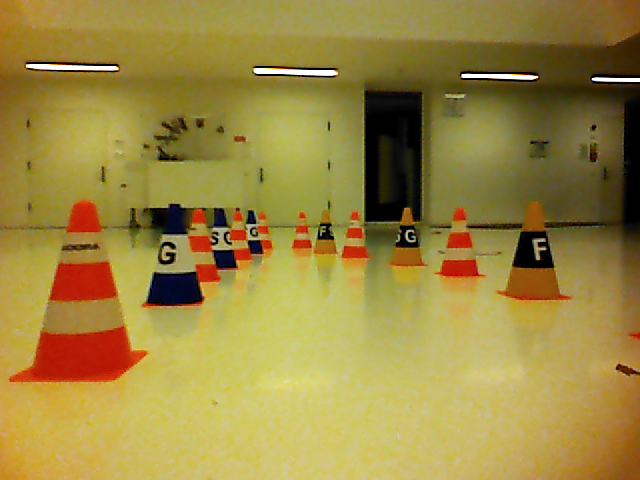orangeconesmall: (34, 199, 130, 375), (443, 207, 479, 275), (345, 211, 368, 255), (296, 214, 311, 245)
yellowcone: (507, 201, 561, 297), (393, 208, 422, 265), (317, 211, 338, 251)
